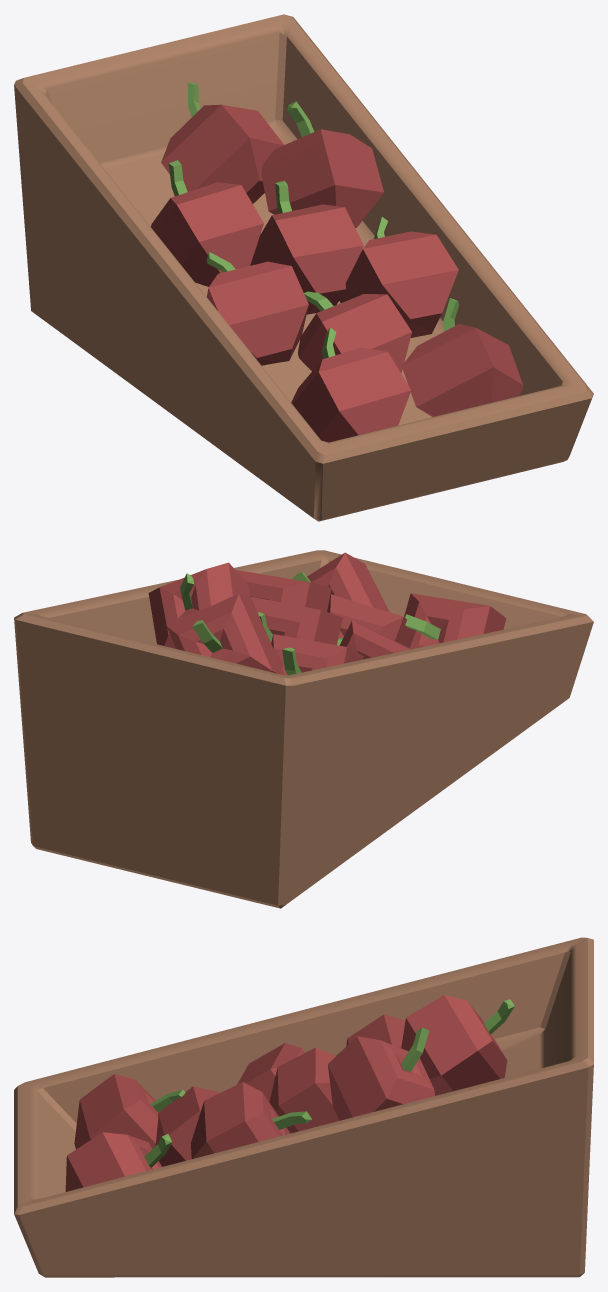
File: Apple bin.fbx
3 views of the same model, one above another, from view 1: azimuth 30°, elevation 25°; view 2: azimuth 150°, elevation 25°; view 3: azimuth 270°, elevation 25° (orthographic). The views are drawn at different scales.
Visible parts, largest first — view 1: Apple_bin; view 2: Apple_bin; view 3: Apple_bin.
Boxes of the visible parts, x1=… form: Apple_bin: x1=14, y1=14, x2=593, y2=521; Apple_bin: x1=14, y1=550, x2=593, y2=908; Apple_bin: x1=14, y1=937, x2=593, y2=1277.
Bounding box in the file's own units: 88 × 70.95 × 167.
